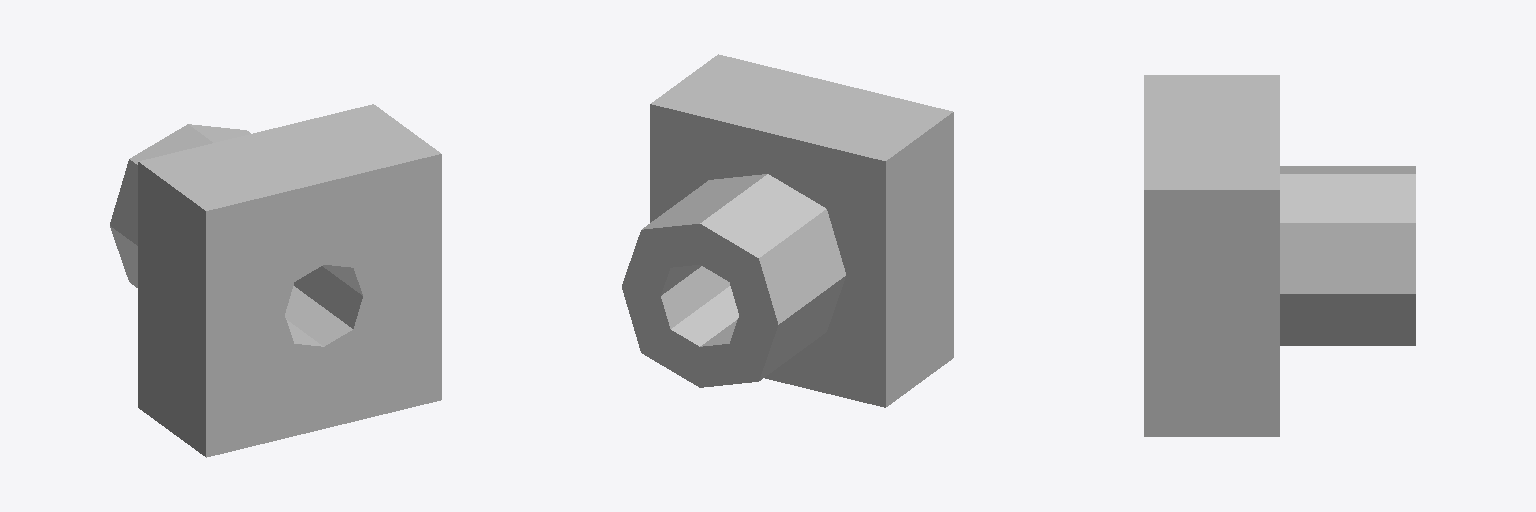
Rendered from item.obj.
3 renders of one model, left to right at view 1: azimuth 30°, elevation 25°; view 2: azimuth 150°, elevation 25°; view 3: azimuth 270°, elevation 25°, orthographic.
Visible parts, largest first — view 1: Cube_Cube.001; view 2: Cube_Cube.001; view 3: Cube_Cube.001.
Boxes of the visible parts, x1,y1,x2,y2 form: Cube_Cube.001: [110, 104, 441, 457]; Cube_Cube.001: [622, 54, 953, 407]; Cube_Cube.001: [1144, 75, 1415, 436].
Size of the model in its own units: 2 by 2 by 2.